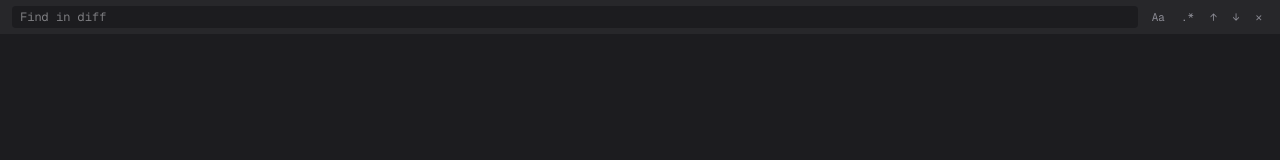
Test: FindBar › jumps to the first match and shows the count
In the field labelled "Find in diff": (575, 17) [12, 6, 1138, 28], type "beta"
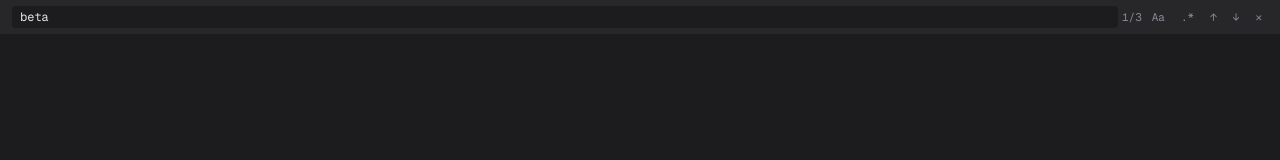
expect the text "1/3" is shown: met, box [1122, 9, 1142, 25]
